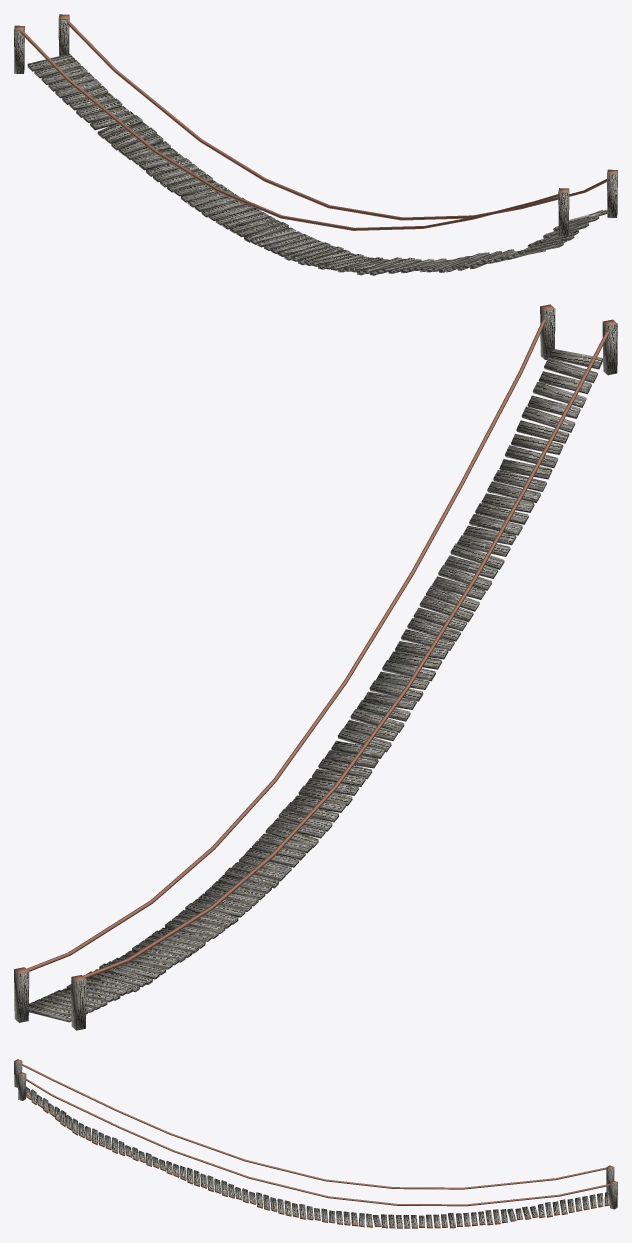
File: Bridge.fbx
3 views of the same model, one above another, from view 1: azimuth 30°, elevation 25°; view 2: azimuth 150°, elevation 25°; view 3: azimuth 270°, elevation 25° (orthographic). The views are drawn at different scales.
Parts seen in each view (by area): view 1: Bridge; view 2: Bridge; view 3: Bridge.
Part boxes in pixels (x1,y1,x2,y2): Bridge: (14,14,617,275); Bridge: (14,304,617,1030); Bridge: (14,1059,617,1228).
Size of the model in its own units: 313 by 824 by 2779.
